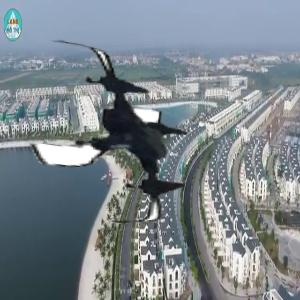drone: (10, 39, 203, 232)
